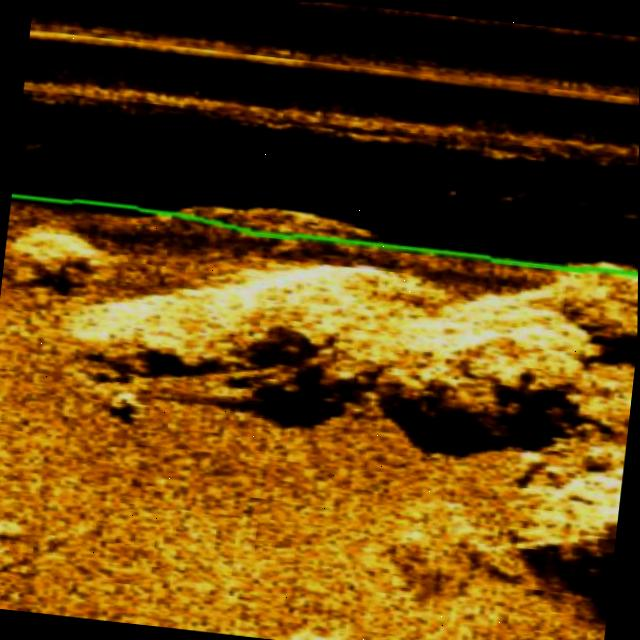bedrock group: (0, 196, 639, 592)
